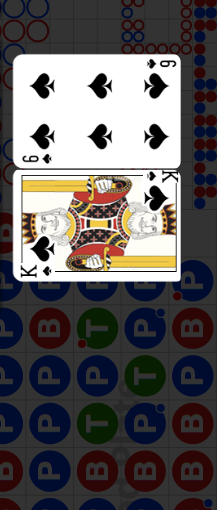6S: (144, 58, 177, 71)
KS: (19, 264, 55, 280)
